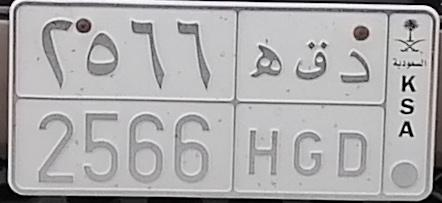2: (36, 16, 76, 185)
5: (82, 30, 121, 182)
6: (127, 18, 167, 183), (174, 19, 213, 183)
D: (337, 48, 370, 179)
G: (293, 38, 328, 177)
H: (246, 42, 284, 177)
